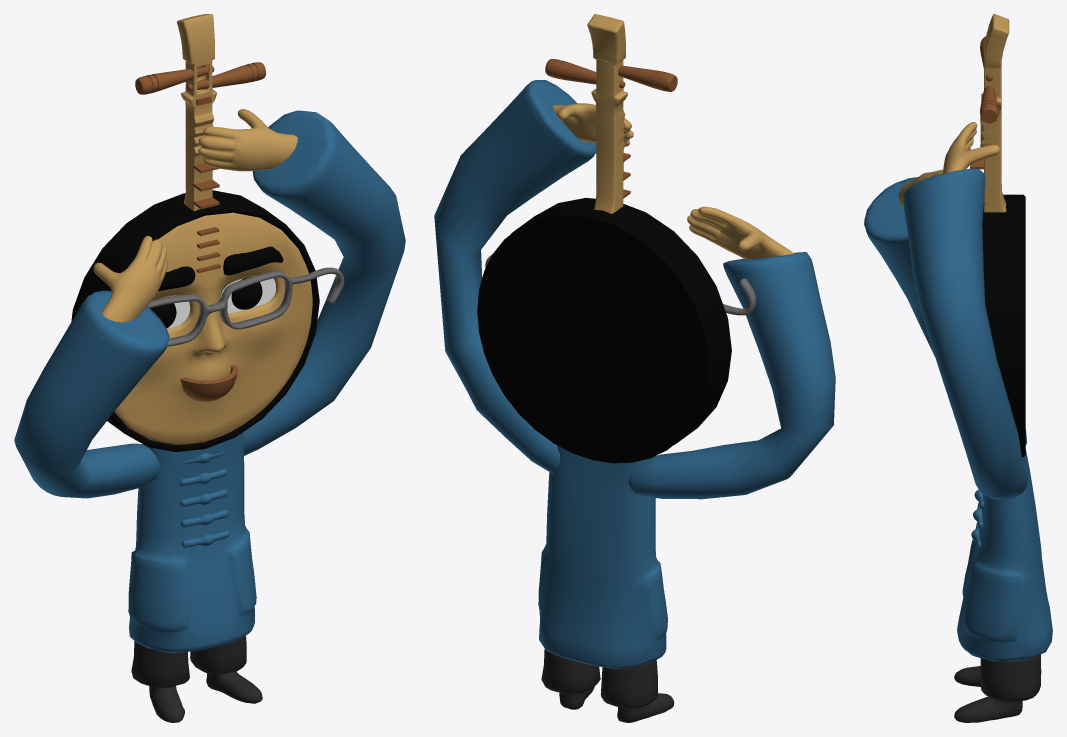
3 renders of one model, left to right at view 1: azimuth 30°, elevation 25°; view 2: azimuth 150°, elevation 25°; view 3: azimuth 270°, elevation 25°, orthographic.
Parts seen in each view (by area): view 1: face, sleeve_4, torso, sleeve, ring, neck, hand_2, hand, glasses, leg2, leg1, pegs (+7 smaller); view 2: Disc, torso, sleeve_4, sleeve, ring, neck, leg2, hand, leg1, pegs, hand_2; view 3: sleeve_4, torso, ring, sleeve, leg1, neck, hand_2, pegs, leg2, knots.
Boxes of the visible parts, x1,y1,x2,y2 form: face: (114,212,312,444); sleeve_4: (242,110,405,455); torso: (128,432,256,652); sleeve: (14,290,169,498); ring: (71,190,319,451); neck: (177,14,216,211); hand_2: (198,109,297,171); hand: (93,236,167,322); glasses: (79,267,344,346); leg2: (131,641,189,722); leg1: (190,635,262,703); pegs: (135,62,265,94); Disc: (477,214,708,463); torso: (538,445,667,668); sleeve_4: (434,80,596,473); sleeve: (628,252,835,499); ring: (479,197,731,461); neck: (587,14,627,213); leg2: (600,660,674,722); hand: (687,206,794,259); leg1: (541,649,600,709); pegs: (545,59,677,91); hand_2: (553,103,633,146); sleeve_4: (903,168,1028,500); torso: (957,449,1052,661); ring: (982,194,1025,457); sleeve: (864,177,1026,445); leg1: (954,654,1041,722); neck: (980,14,1009,212); hand_2: (942,122,999,173); pegs: (980,36,998,123); leg2: (954,666,980,686); knots: (971,489,983,548).
Size of the model in its own units: 494 by 841 by 211.
